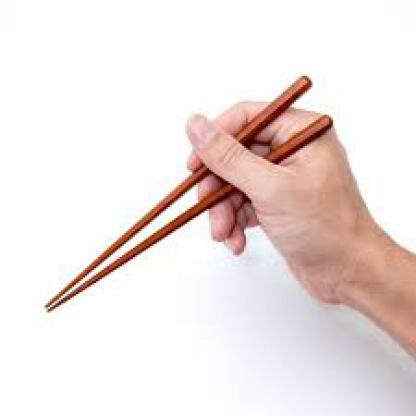chopstick: (44, 72, 314, 307), (46, 115, 335, 312)
